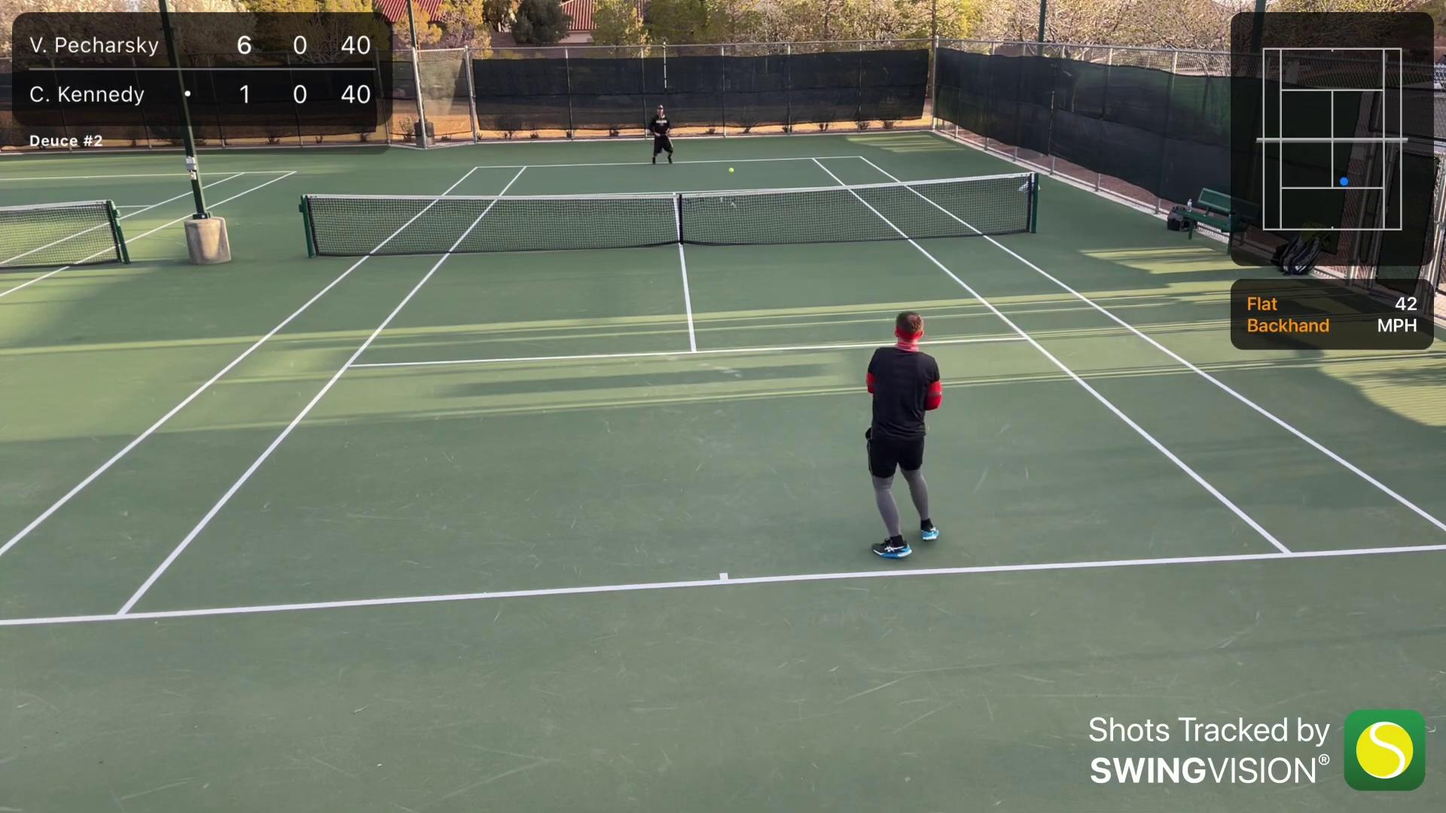ball: (727, 167, 735, 173)
